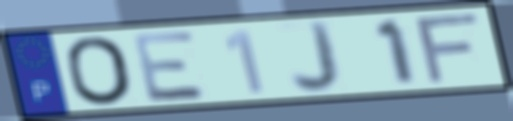1: (371, 18, 424, 87), (224, 27, 266, 95)
E: (129, 28, 211, 104)
F: (412, 11, 484, 87)
J: (288, 19, 344, 95)
O: (62, 34, 138, 107)
